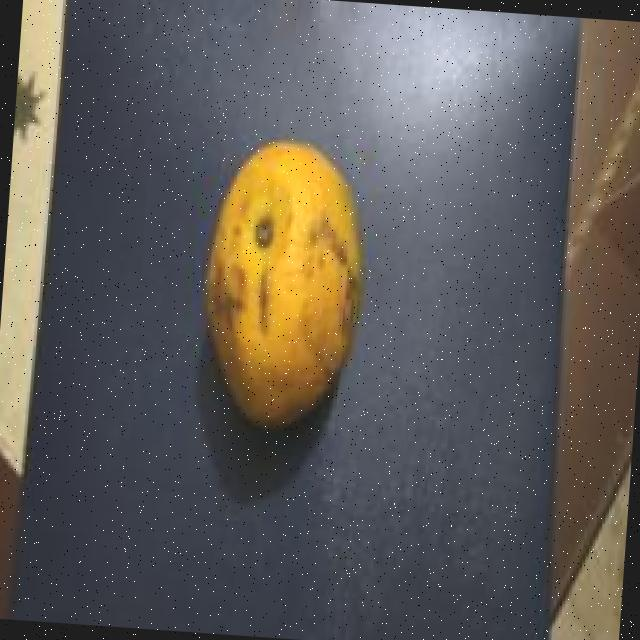overripe: (187, 126, 372, 437)
